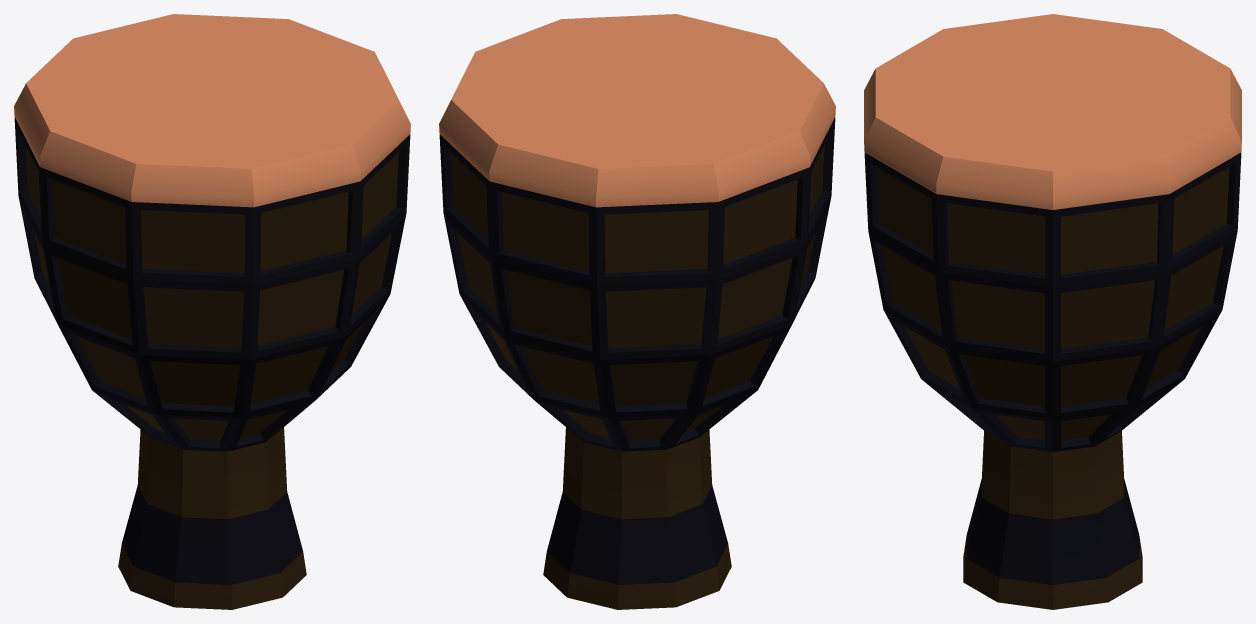
File: MOD_Tamtam.FBX
3 views of the same model, side by side, from view 1: azimuth 30°, elevation 25°; view 2: azimuth 150°, elevation 25°; view 3: azimuth 270°, elevation 25° (orthographic).
Parts seen in each view (by area): view 1: Cylinder001; view 2: Cylinder001; view 3: Cylinder001.
Boxes of the visible parts, bbox=[...] form: Cylinder001: bbox=[14, 14, 410, 609]; Cylinder001: bbox=[439, 14, 835, 609]; Cylinder001: bbox=[864, 14, 1241, 609].
Bounding box in the file's own units: 46.7 × 61.89 × 44.41.
